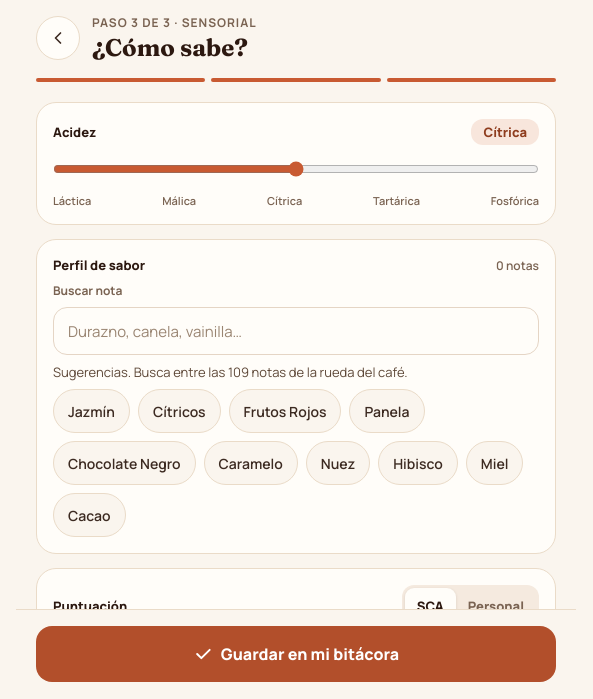
Test: Paso3Sensorial › alterna notas con aria-pressed y cuenta las elegidas
This screenshot has width=593, height=699.
Expected: the text "0 notas" is shown, [496, 257, 539, 274]
Click the button "Jazmín". click: (91, 411)
box: [53, 389, 130, 433]
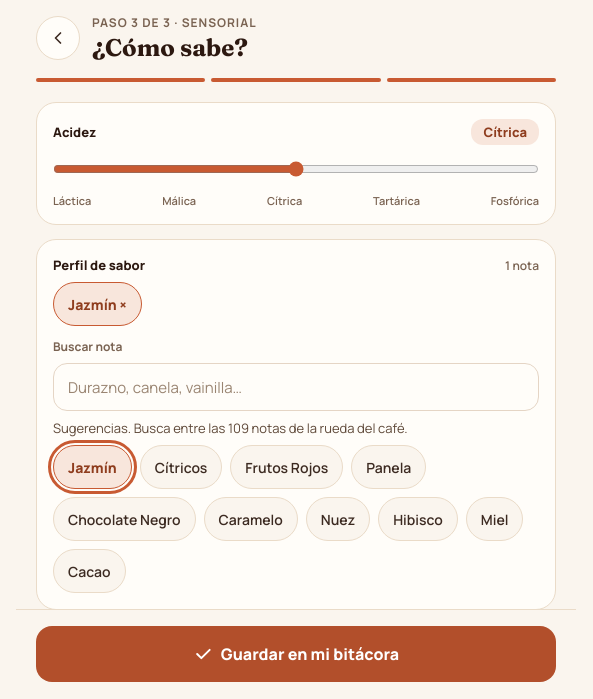
Expected: the text "1 nota" is shown, [505, 257, 539, 274]
Click the button "Hibisco". click: (418, 519)
box: [378, 497, 458, 541]
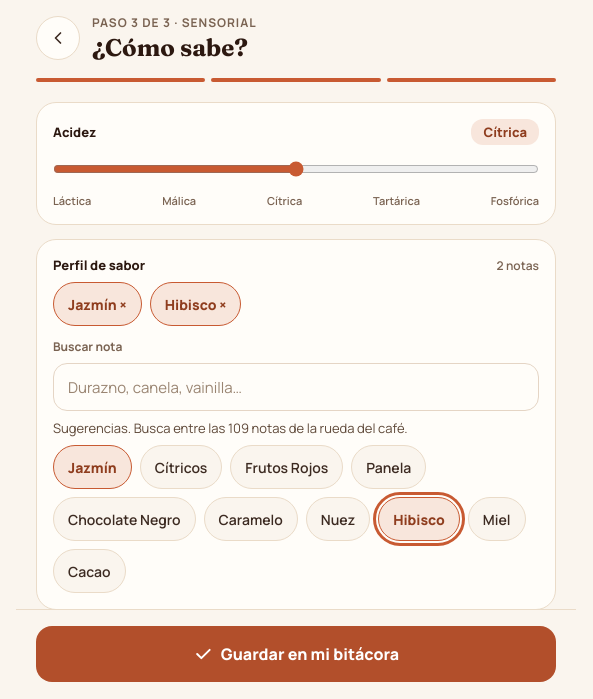
Expected: the text "2 notas" is shown, [497, 257, 539, 274]
